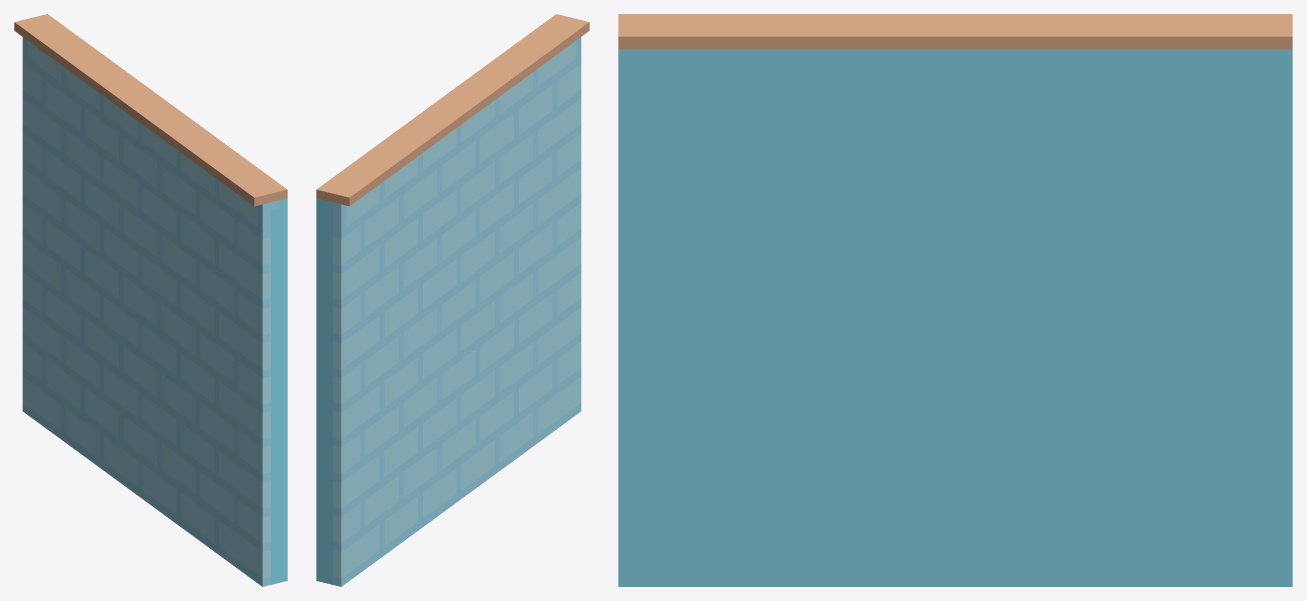
Rendered from Kitchen_wall.obj.
3 renders of one model, left to right at view 1: azimuth 30°, elevation 25°; view 2: azimuth 150°, elevation 25°; view 3: azimuth 270°, elevation 25°, orthographic. The views are drawn at different scales.
Bounding box in the file's own units: 0.4 × 4.5 × 5.
